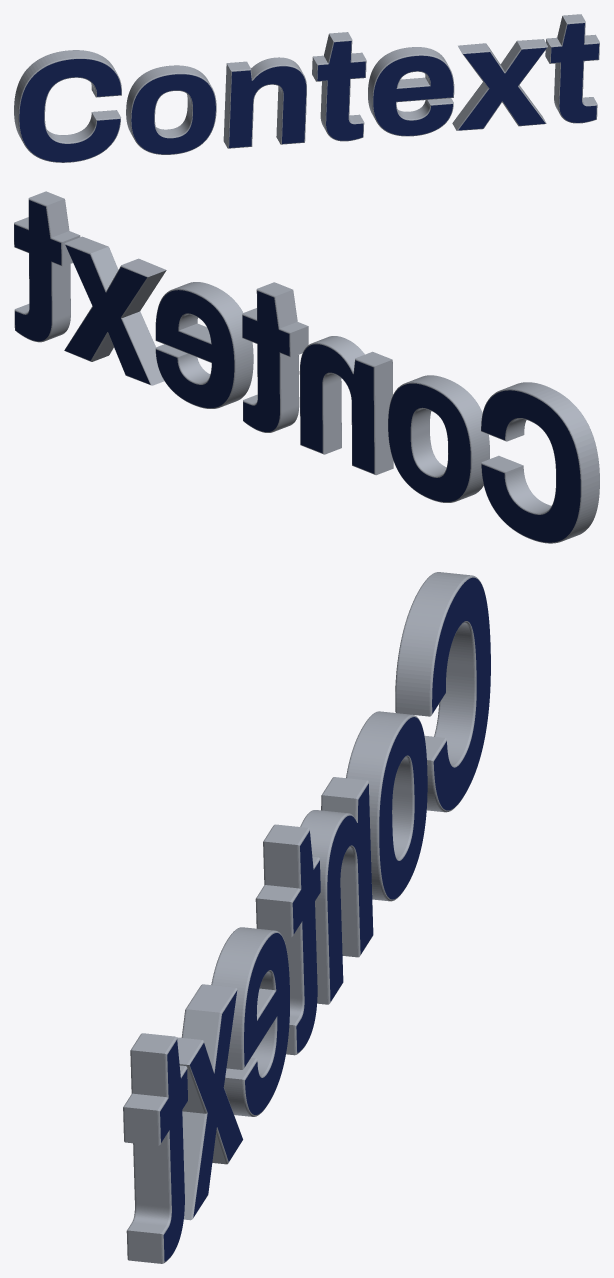
The picture shows the model from 3 angles, top to bottom: view 1: azimuth 30°, elevation 25°; view 2: azimuth 150°, elevation 25°; view 3: azimuth 270°, elevation 25°; orthographic projection. The views are drawn at different scales.
Visible parts, largest first — view 1: Context / outlined glyph 1, Context / outlined glyph 5, Context / outlined glyph 2, Context / outlined glyph 3, Context / outlined glyph 6, Context / outlined glyph 4, Context / outlined glyph 7; view 2: Context / outlined glyph 1, Context / outlined glyph 5, Context / outlined glyph 3, Context / outlined glyph 2, Context / outlined glyph 6, Context / outlined glyph 4, Context / outlined glyph 7; view 3: Context / outlined glyph 1, Context / outlined glyph 7, Context / outlined glyph 3, Context / outlined glyph 5, Context / outlined glyph 2, Context / outlined glyph 6, Context / outlined glyph 4.
Boxes of the visible parts, x1,y1,x2,y2 form: Context / outlined glyph 1: (14,50,121,162); Context / outlined glyph 5: (368,47,454,136); Context / outlined glyph 2: (126,65,216,154); Context / outlined glyph 3: (223,57,306,148); Context / outlined glyph 6: (452,39,547,130); Context / outlined glyph 4: (312,32,366,141); Context / outlined glyph 7: (545,14,599,123); Context / outlined glyph 1: (481,382,599,543); Context / outlined glyph 5: (155,282,253,408); Context / outlined glyph 3: (299,336,393,475); Context / outlined glyph 2: (388,375,489,502); Context / outlined glyph 6: (64,236,166,385); Context / outlined glyph 4: (242,282,308,432); Context / outlined glyph 7: (14,191,80,342); Context / outlined glyph 1: (395,572,490,812); Context / outlined glyph 7: (123,1033,188,1263); Context / outlined glyph 3: (300,777,373,1004); Context / outlined glyph 5: (211,927,289,1116); Context / outlined glyph 2: (346,711,427,901); Context / outlined glyph 6: (177,984,243,1220); Context / outlined glyph 4: (255,824,320,1055).
Bounding box in the file's own units: 8.55 × 1.95 × 2.71.
